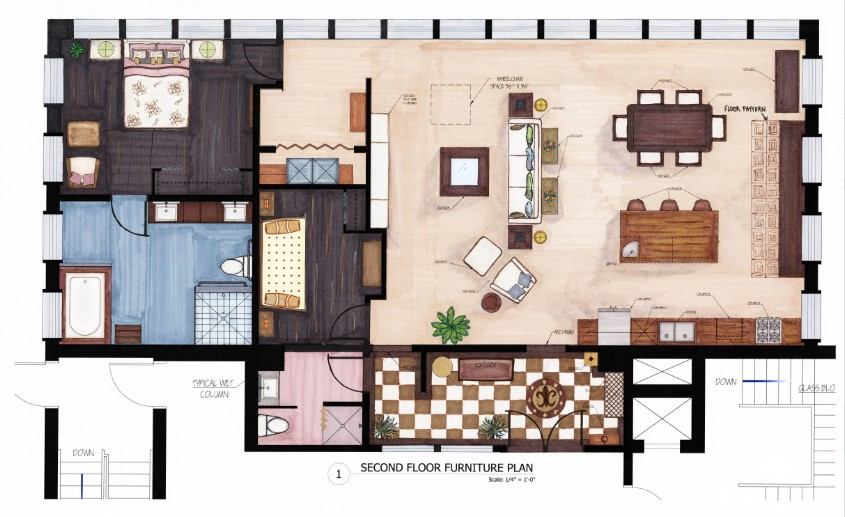door: (108, 206, 149, 243), (241, 40, 275, 80), (324, 355, 356, 393)
restroom: (44, 195, 258, 360), (245, 343, 371, 453)
room: (364, 9, 828, 359), (45, 18, 261, 202), (249, 182, 386, 351), (250, 83, 373, 189)
window: (279, 16, 331, 42), (38, 291, 65, 340), (799, 292, 826, 341), (38, 213, 65, 262), (39, 134, 66, 183), (38, 57, 65, 106), (798, 290, 825, 339), (799, 213, 826, 262), (798, 135, 825, 184), (798, 57, 825, 106), (378, 444, 494, 455), (70, 15, 121, 38), (123, 16, 174, 39), (439, 17, 490, 40), (487, 16, 538, 39), (539, 16, 590, 39), (593, 17, 644, 40), (644, 17, 695, 40), (698, 17, 749, 40), (750, 18, 801, 41), (383, 17, 434, 40), (331, 17, 382, 40), (175, 15, 226, 38), (228, 16, 279, 39)
